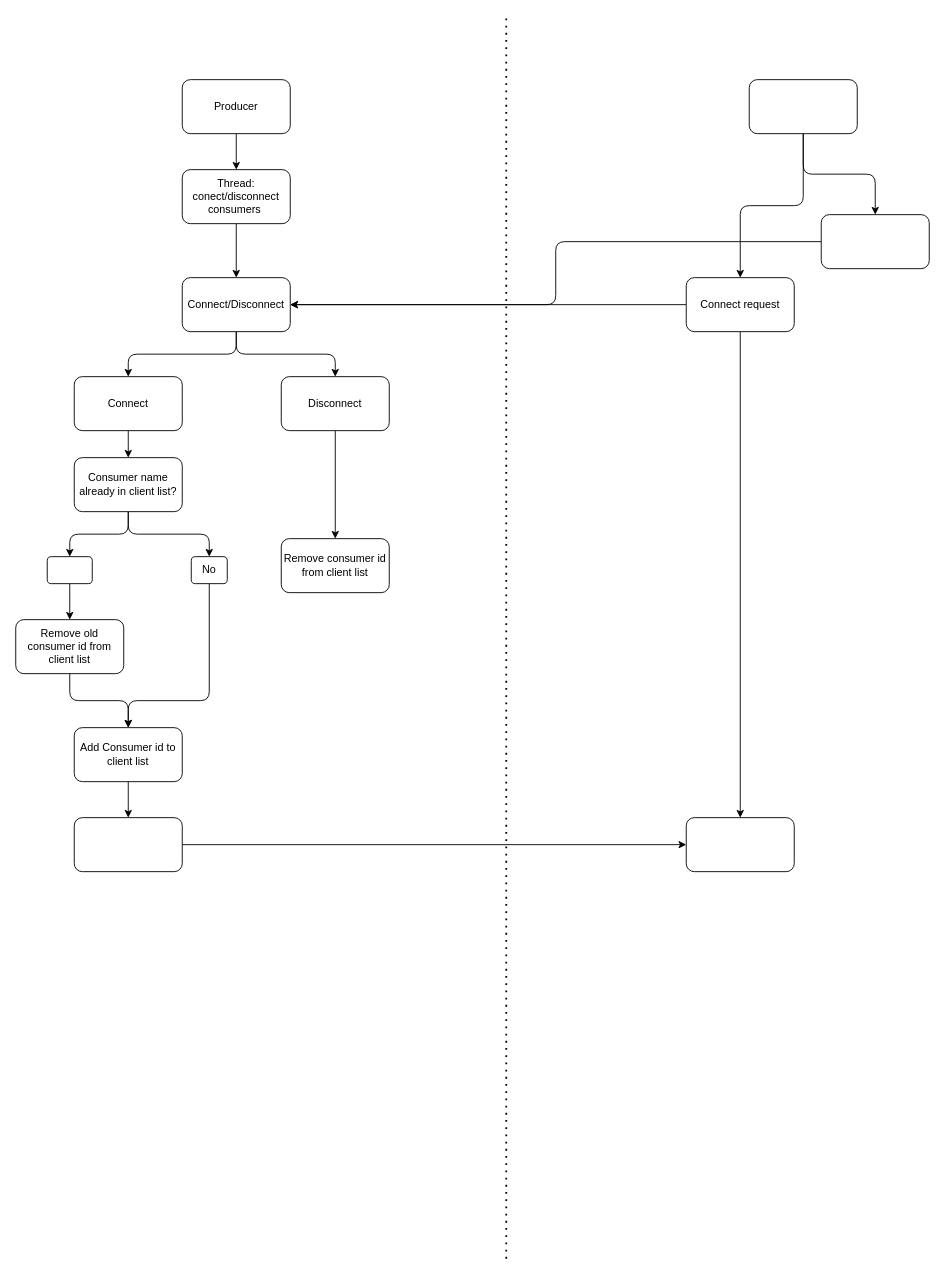
The diagram is 945 pixels wide and 1275 high, and some of its shapes have lost their labels. Each missing label, with the centre of its shape:
Consumer: point 802,106
Disconnect request: point 874,241
Send connection confirmation: point 127,844
Wait for connection confirmation: point 739,844
Yes: point 69,570
